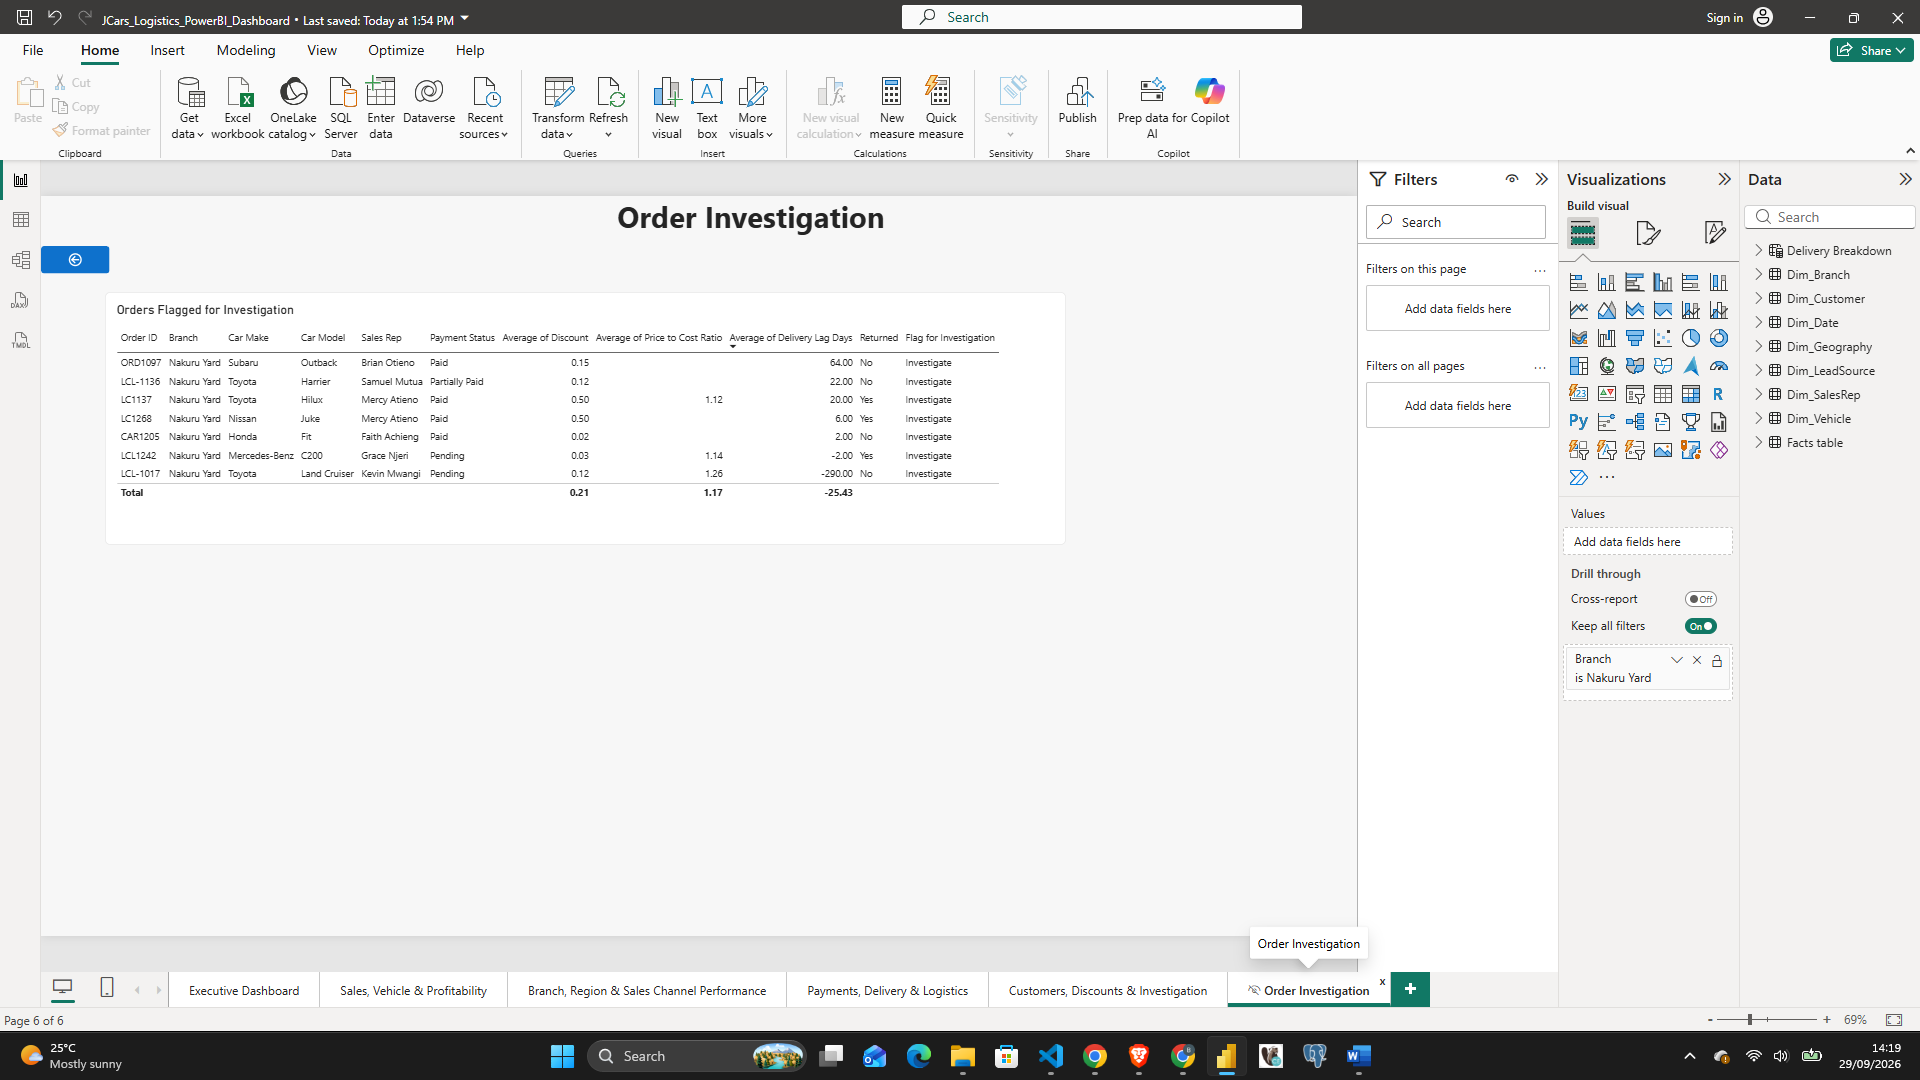

The dashboard page shown, as its layout file describes it:
{"tool":"powerbi","page":{"name":"Order Investigation","canvas":[1920,1080],"ordinal":5},"visuals":[{"type":"tableEx","title":"Orders Flagged for Investigation","fields":{"Values":["Facts table.Order ID","Dim_Branch.Branch","Dim_Vehicle.Car Make","Dim_Vehicle.Car Model","Dim_SalesRep.Sales Rep","Facts table.Payment Status","Avg(Facts table.Discount)","Avg(Facts table.Price to Cost Ratio)","Avg(Facts table.Delivery Lag Days)","Facts table.Returned","Facts table.Flag for Investigation"]},"box":[93.4,140.1,1402.1,369.1],"z":0},{"type":"actionButton","box":[0,72.9,100,40],"z":1000},{"type":"textbox","box":[534,0,1003.8,72.9],"z":1001}]}

Visuals, with their boxes on the page's 1920x1080 design canvas (x1, y1, x2, y2). These are canvas units, not pixel positions in the 1920x1080 screenshot, which may show the page scaled, cropped or inside an application window:
"Orders Flagged for Investigation" tableEx: crop(93, 140, 1496, 509)
actionButton: crop(0, 73, 100, 113)
textbox: crop(534, 0, 1538, 73)
